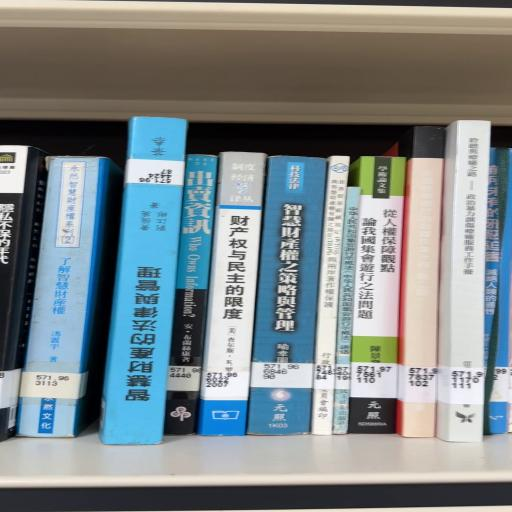book: (17, 157, 122, 438), (247, 156, 326, 435), (198, 152, 266, 435), (436, 121, 490, 442), (392, 126, 444, 437), (348, 157, 405, 433), (164, 154, 218, 434)
reverse: (100, 117, 187, 445)
